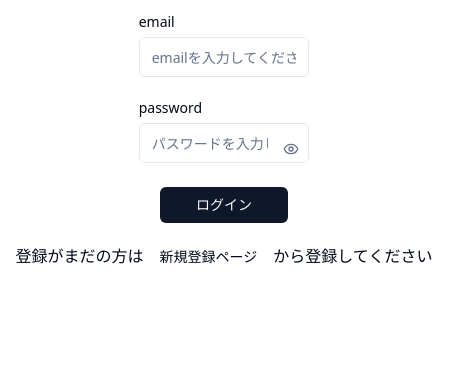
it: LoginPage › 必須項目が空の場合、送信されずにエラーメッセージが表示される
何も入力せずにクリック（または email のみ入力）
Click the button "ログイン": (224, 205) [160,187,288,223]
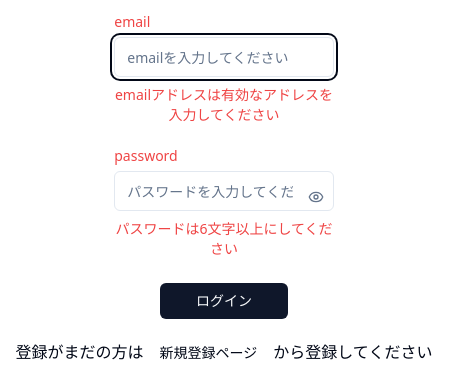
Expected: the text "パスワードは6文字以上にしてください" is shown, [114,219,334,259]
